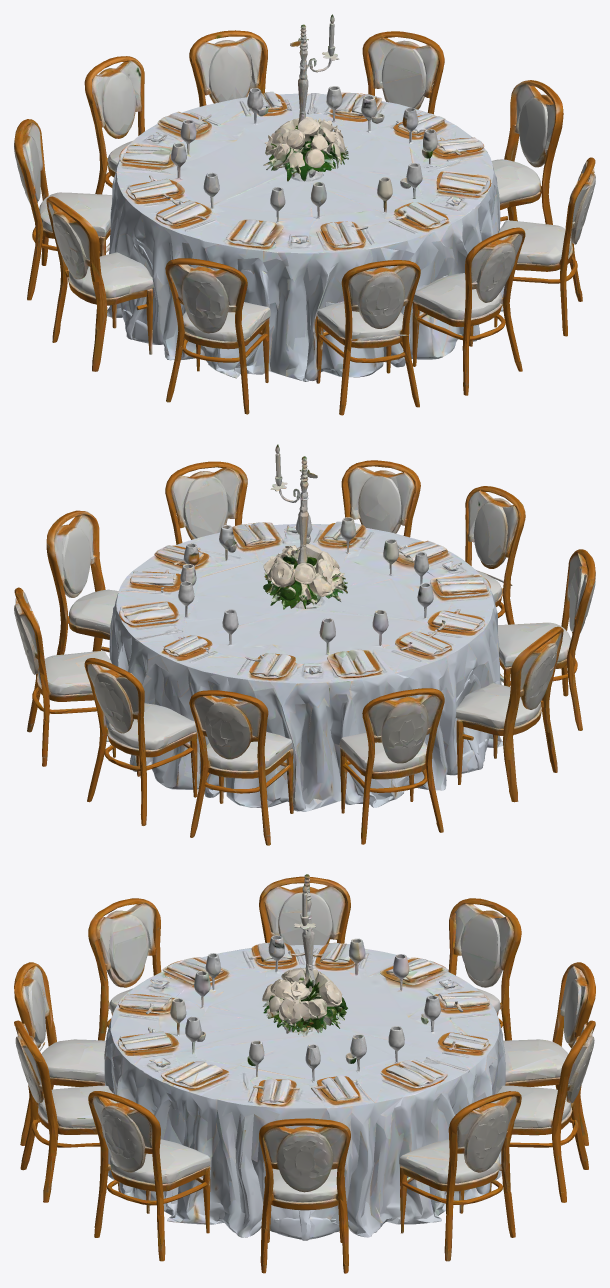
The model's file is patronTable.glb.
The picture shows the model from 3 angles, top to bottom: view 1: azimuth 30°, elevation 25°; view 2: azimuth 150°, elevation 25°; view 3: azimuth 270°, elevation 25°; orthographic projection. The views are drawn at different scales.
Bounding box in the file's own units: 1.9 × 1.03 × 1.9.
1 material, 1 textured.
